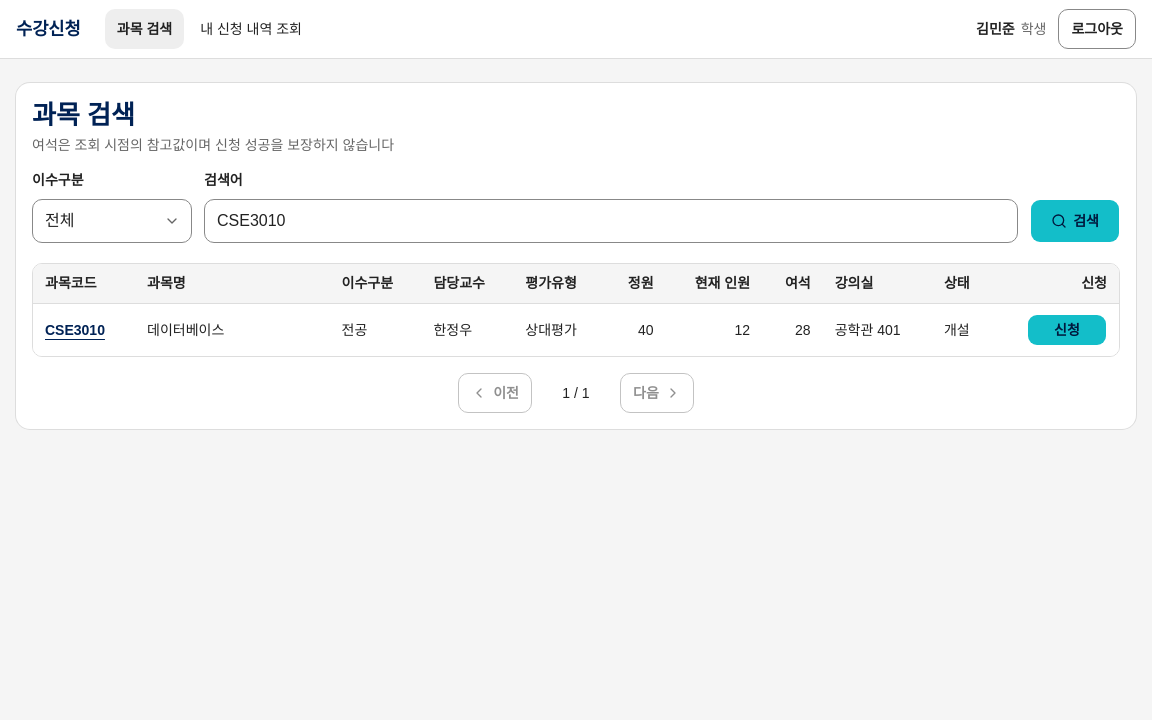
Test: 갱신 뒤 티켓 재조회 500은 서버 오류를 표시하고 폴링과 잠금을 중단한다
What coordinates should you click on to do the following:
click the button "신청"
I would click on:
 (1067, 330)
Its box is [1027,314,1107,346].
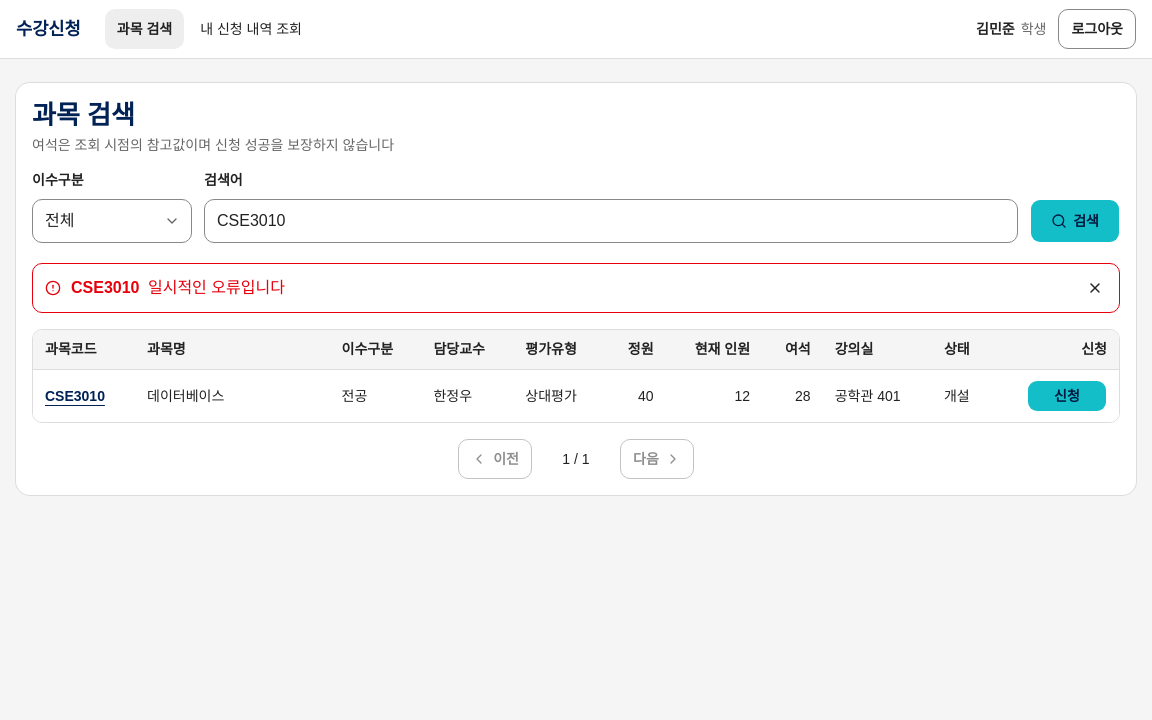
Result: the message with test id "request-outcome" shows "일시적인 오류입니다" at [148,279,285,296]
